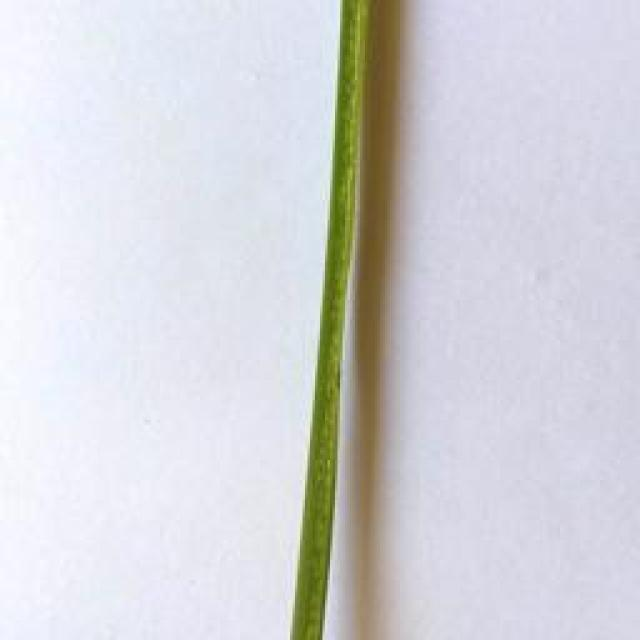Healthy-Plant: (278, 0, 388, 640)
